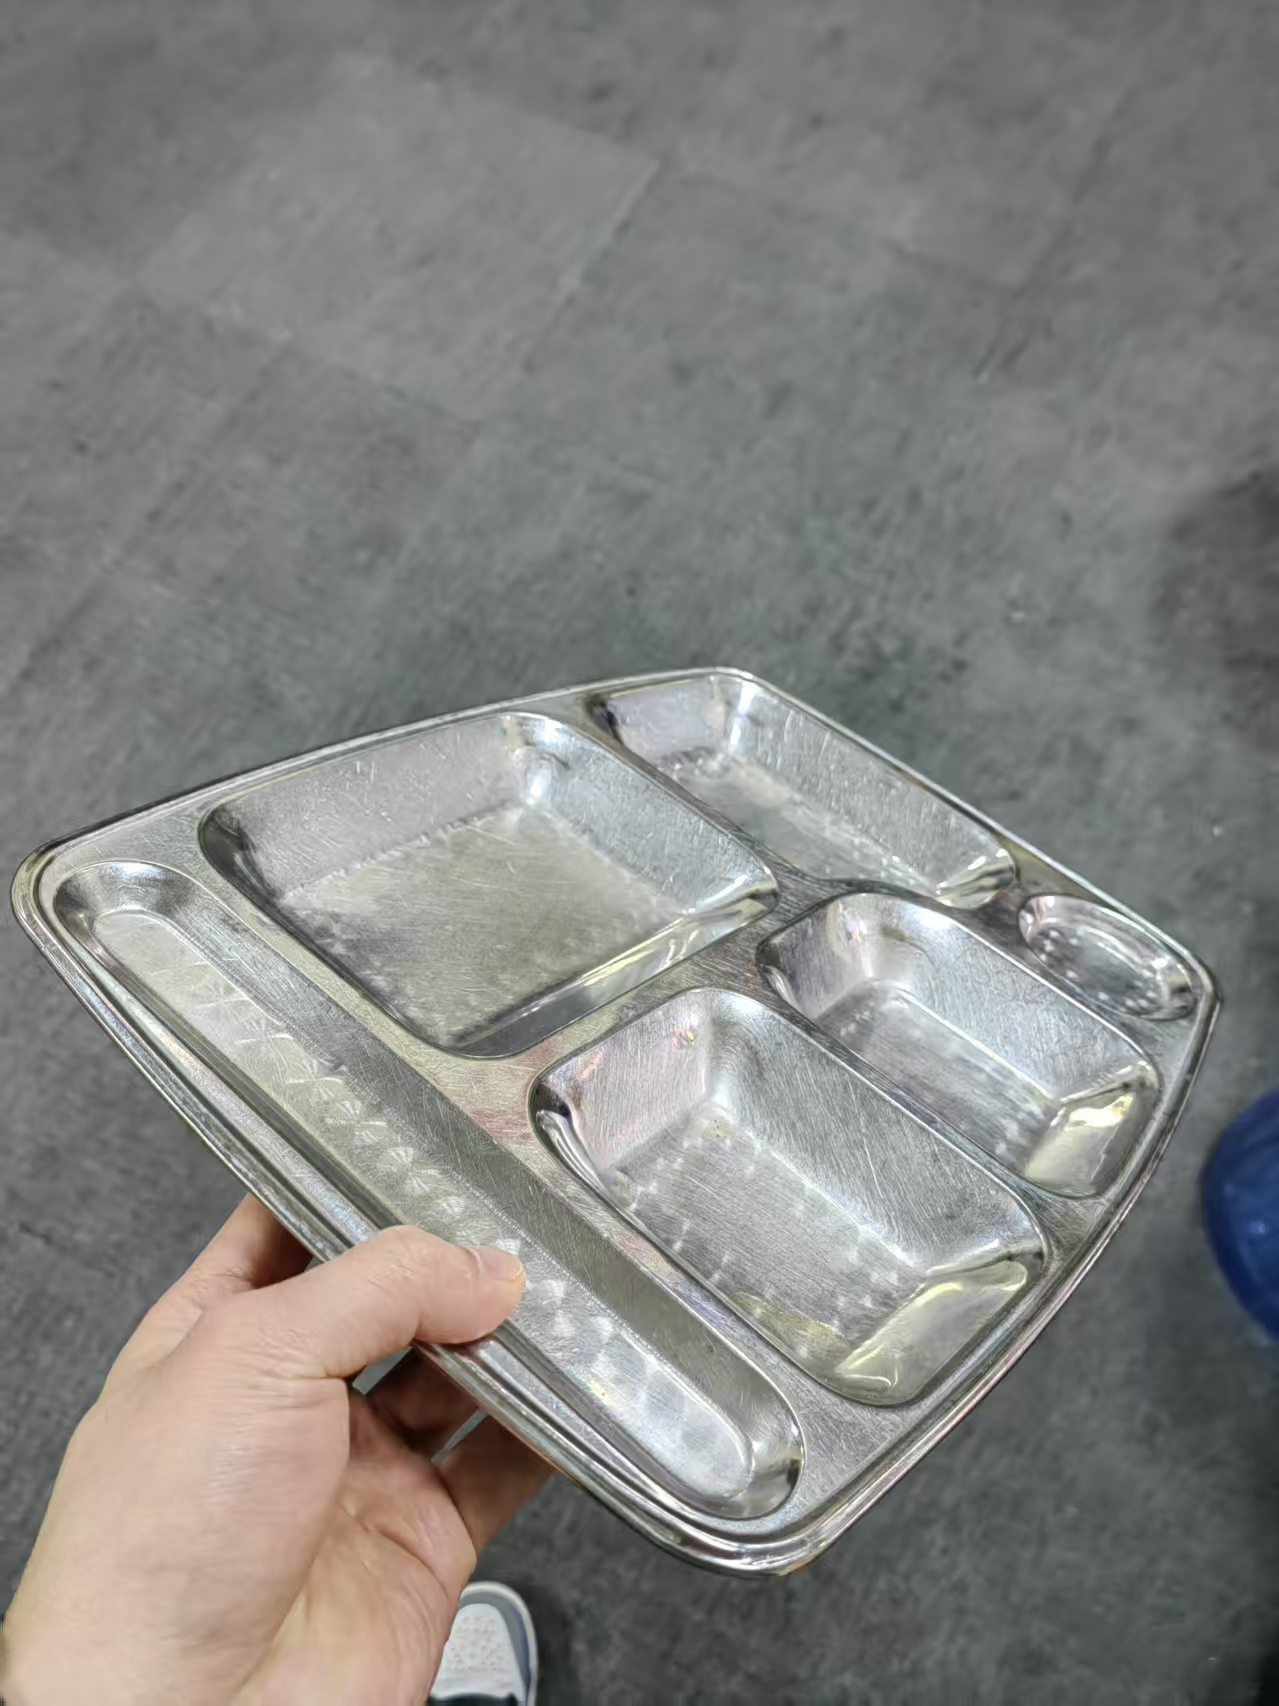plate: (13, 662, 1226, 1585)
